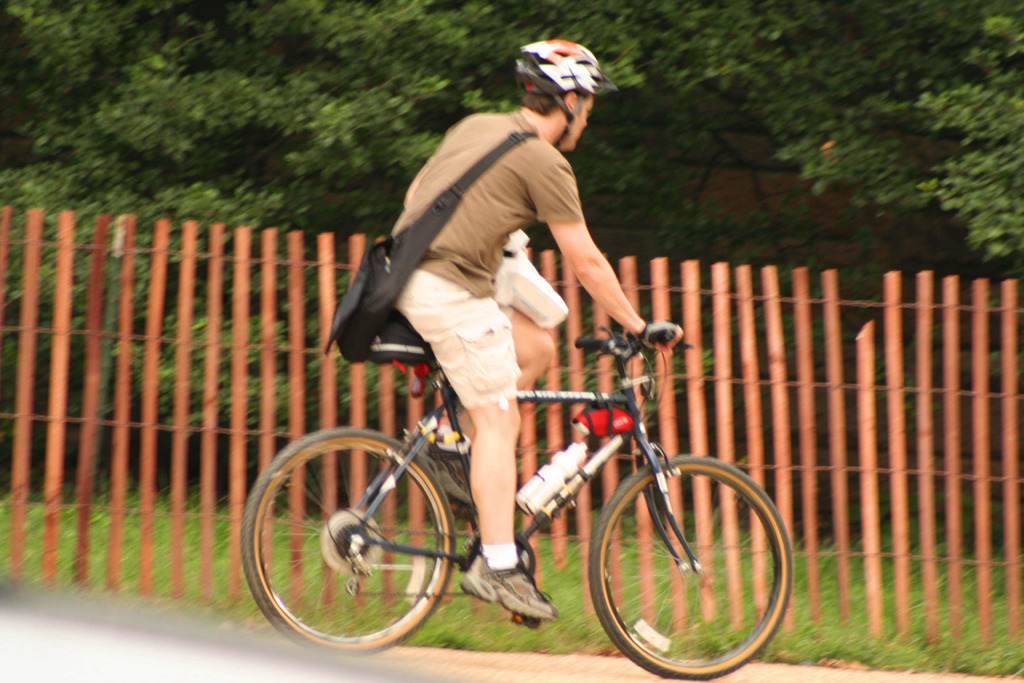Bike_away: (239, 329, 796, 679)
